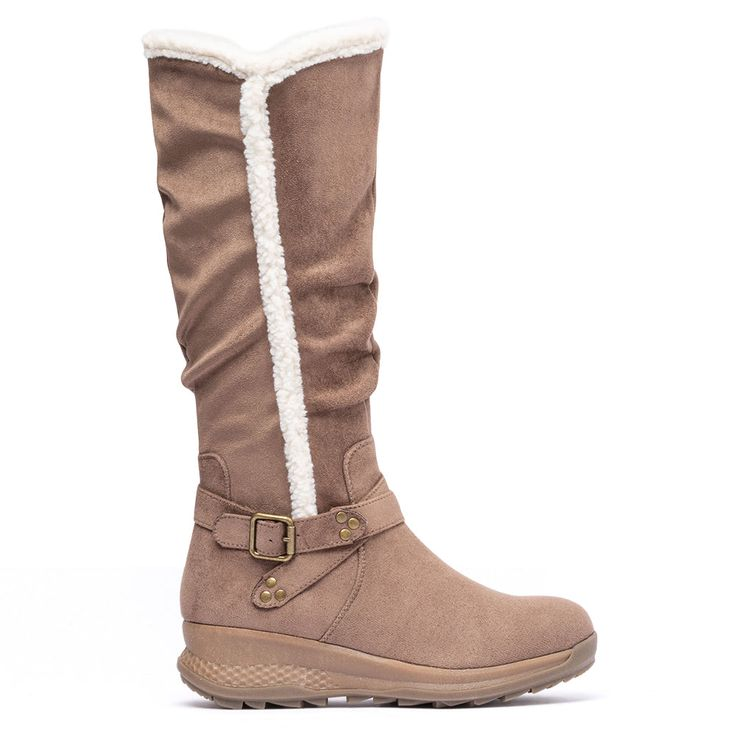gamuza: (146, 55, 594, 670)
